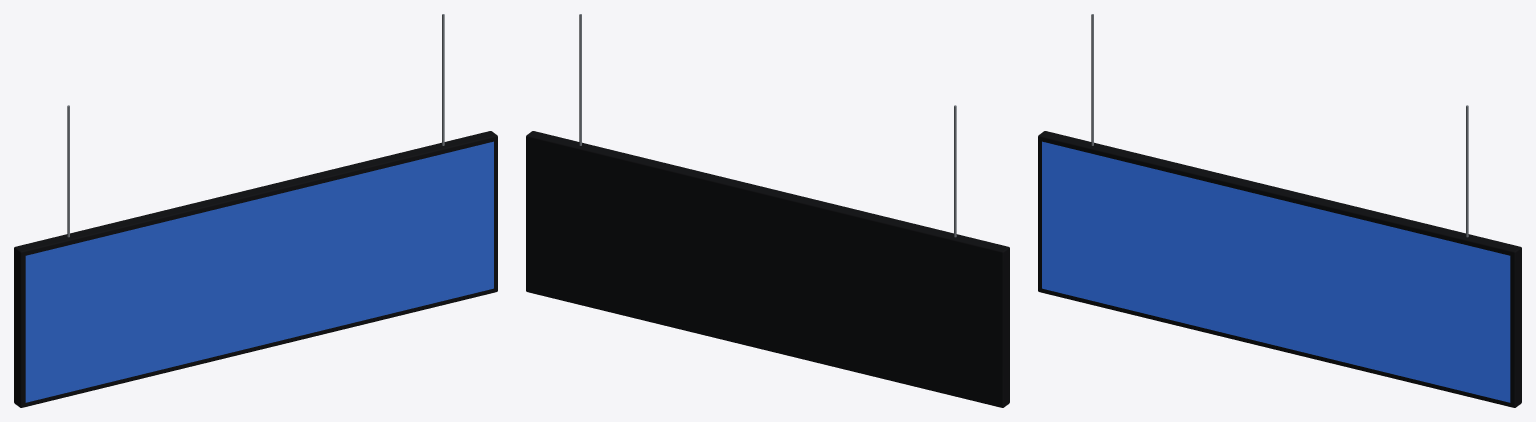
The model's file is menu-board.glb.
3 renders of one model, left to right at view 1: azimuth 30°, elevation 25°; view 2: azimuth 150°, elevation 25°; view 3: azimuth 330°, elevation 25°, orthographic.
Parts seen in each view (by area): view 1: SCREEN, BODY; view 2: BODY; view 3: SCREEN, BODY.
Part boxes in pixels (x1,y1,x2,y2): SCREEN: (25,141,493,402); BODY: (14,14,497,407); BODY: (526,14,1009,407); SCREEN: (1042,141,1510,402); BODY: (1038,14,1521,407).
Bounding box in the file's own units: 3.06 × 1.76 × 0.082.
